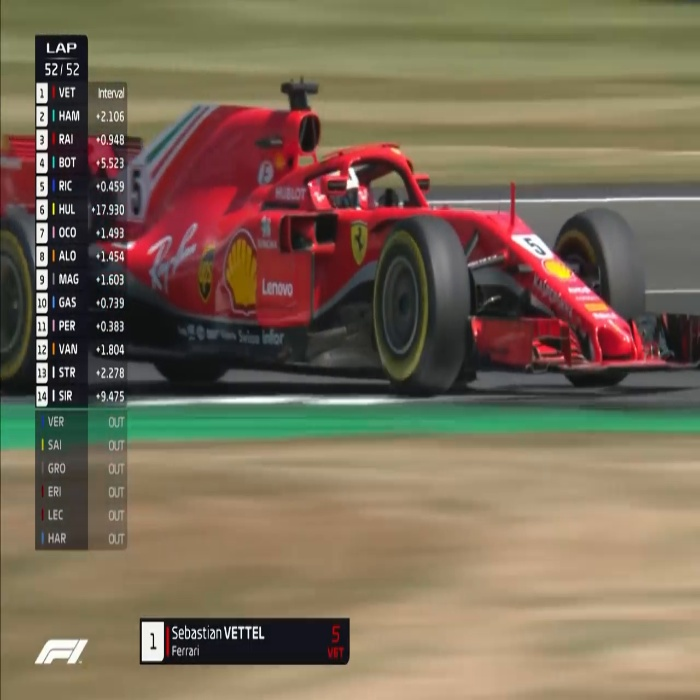f1_car: (2, 52, 696, 409)
